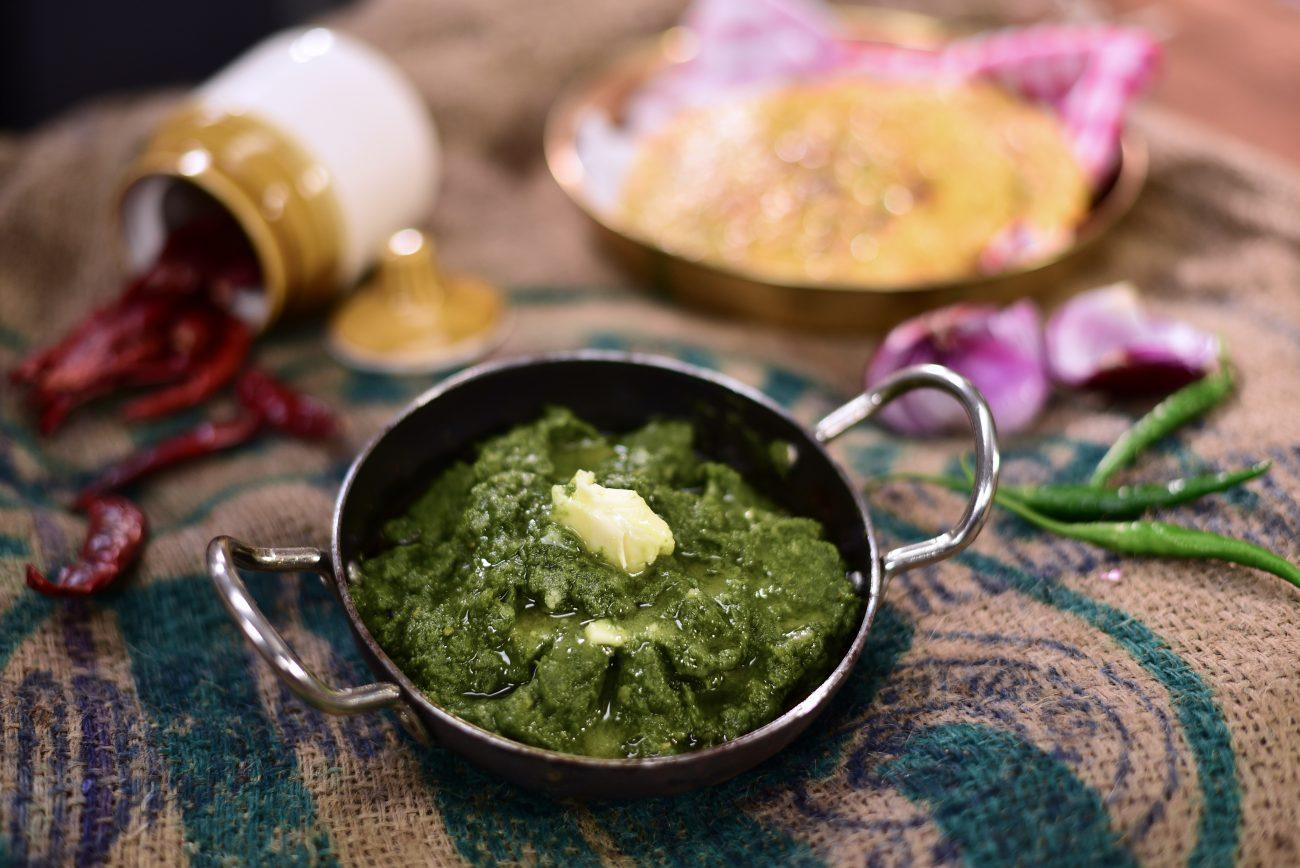saag: (355, 399, 855, 751)
